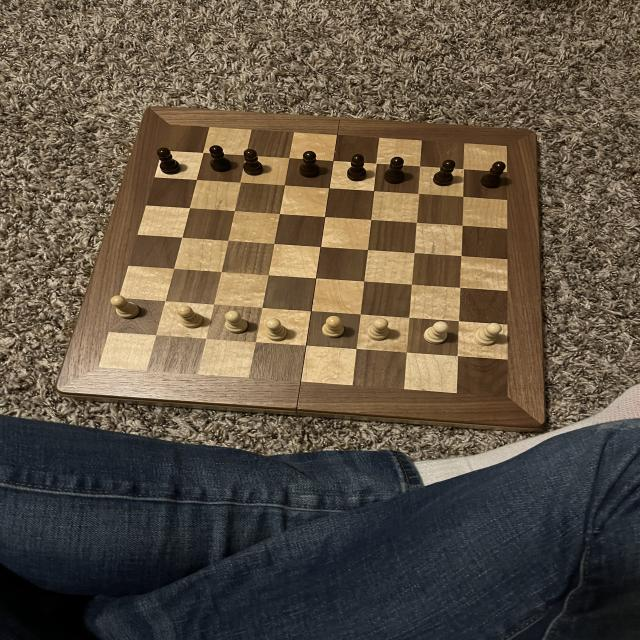black-knight: (154, 146, 187, 176), (430, 156, 460, 188), (381, 154, 410, 187), (478, 159, 508, 189), (240, 147, 268, 178), (343, 152, 370, 184), (208, 144, 234, 176), (296, 149, 322, 181)
white-knight: (171, 302, 209, 333), (107, 292, 143, 322), (470, 321, 506, 347), (316, 313, 349, 340), (421, 318, 451, 347), (222, 308, 252, 336), (364, 317, 394, 344), (262, 317, 290, 344)
